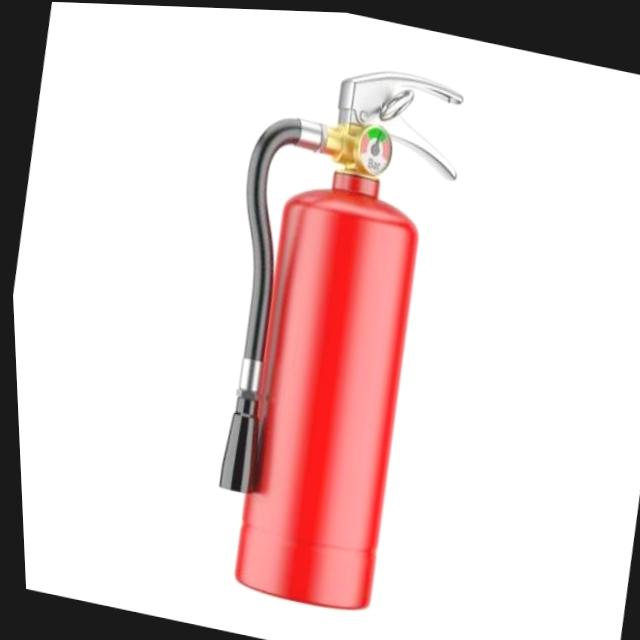FireExtinguisher: (160, 32, 492, 631)
